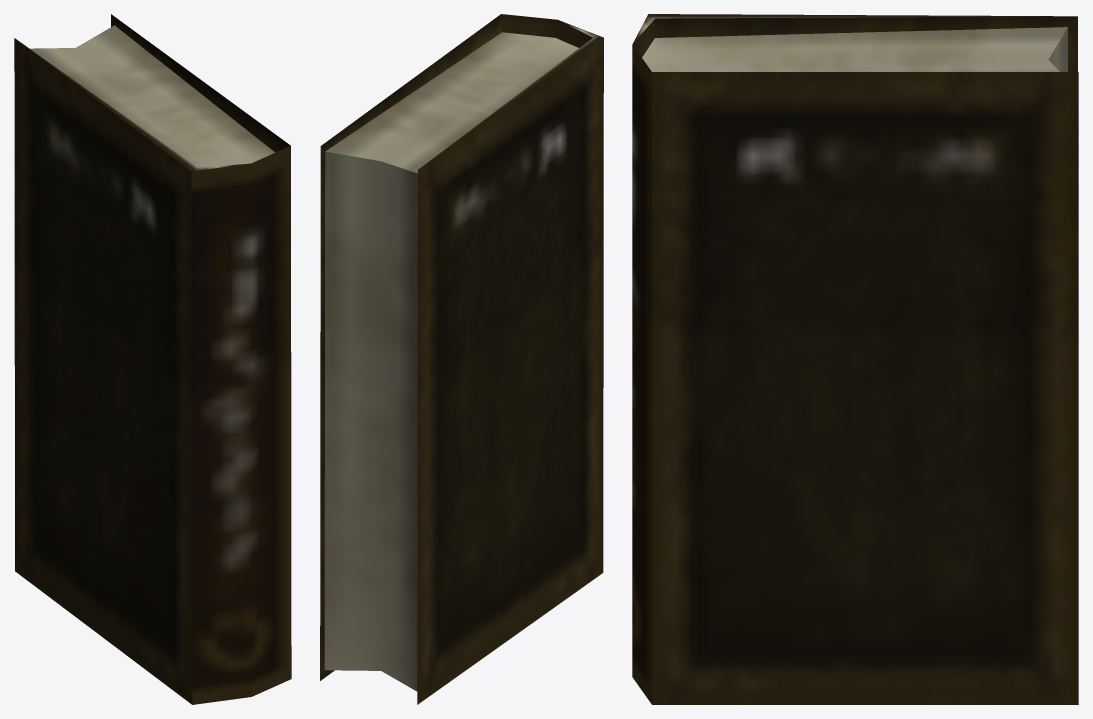
The model's file is M_Home_Garden_Book_03.fbx.
3 views of the same model, side by side, from view 1: azimuth 30°, elevation 25°; view 2: azimuth 150°, elevation 25°; view 3: azimuth 270°, elevation 25° (orthographic). The views are drawn at different scales.
Visible parts, largest first — view 1: M_Home_Garden_Book_03; view 2: M_Home_Garden_Book_03; view 3: M_Home_Garden_Book_03.
Boxes of the visible parts, x1,y1,x2,y2 form: M_Home_Garden_Book_03: (14,14,291,704); M_Home_Garden_Book_03: (320,14,603,704); M_Home_Garden_Book_03: (632,14,1078,704).
Bounding box in the file's own units: 11.32 × 56.93 × 36.39.
